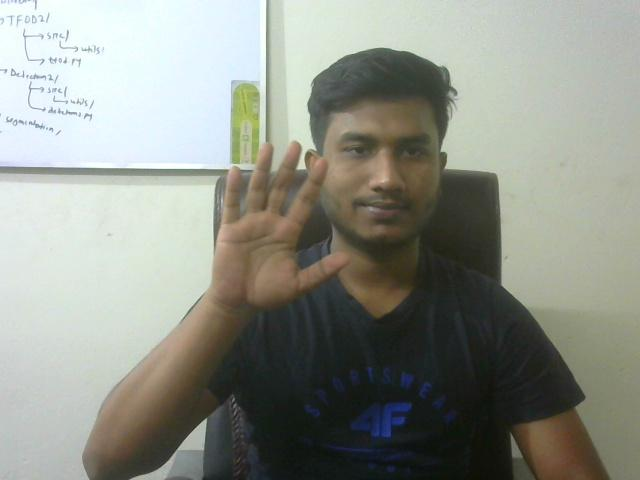Hello: (202, 127, 353, 317)
